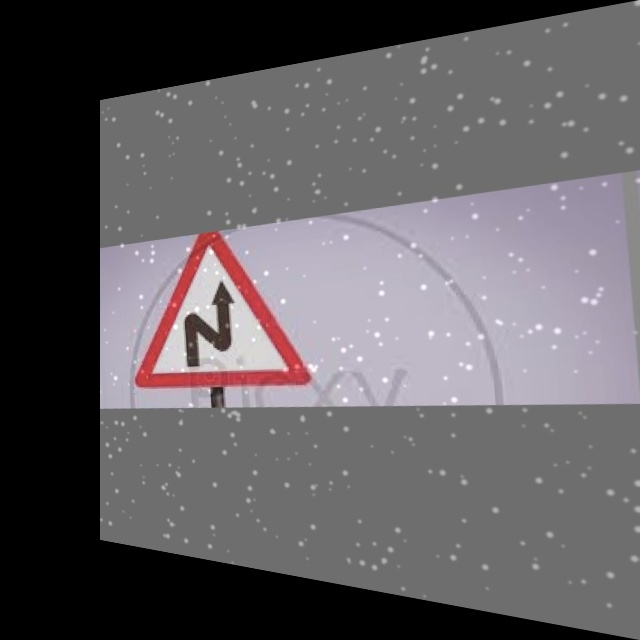Right_Reverse_Bend: (145, 235, 291, 394)
